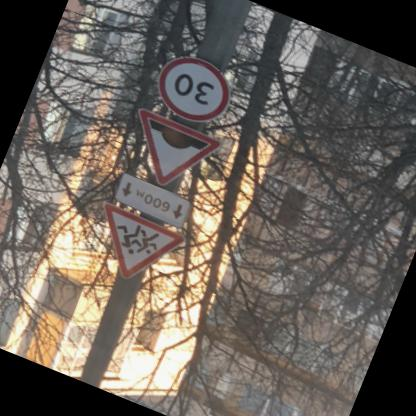speedlimit: (146, 48, 240, 132)
